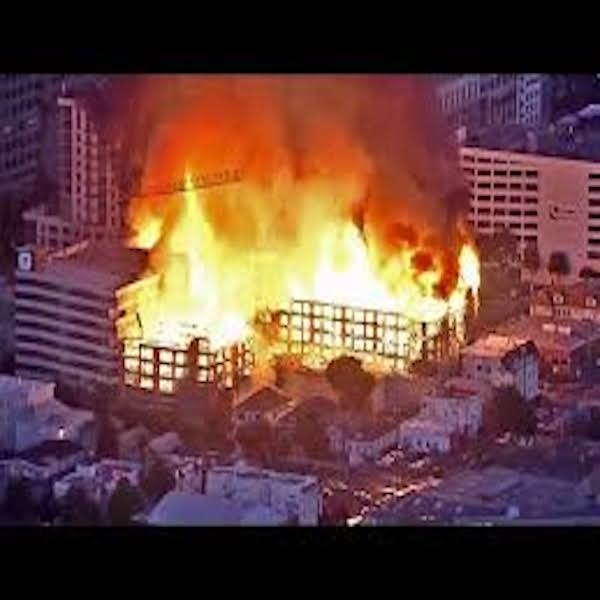fire: (123, 123, 463, 302), (294, 305, 424, 359), (132, 309, 254, 350)
